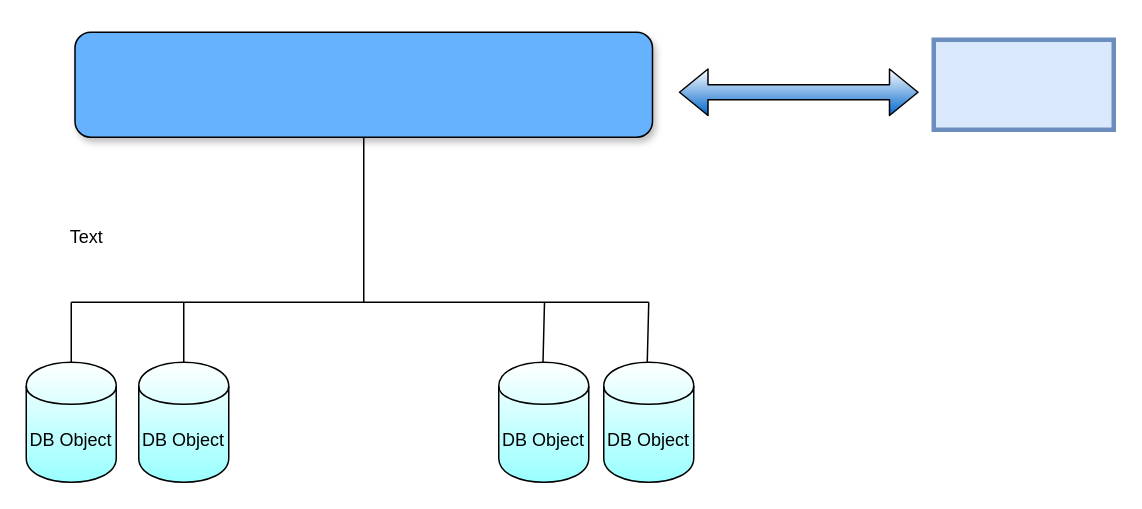
This 1142x509 diagram has some shape labels left out. The centre of each missing label's shape, as x and y in pixels:
"DBCLI (FrontEnd)" belongs at [1023,84].
"DBManager (Service)" belongs at [365,86].
